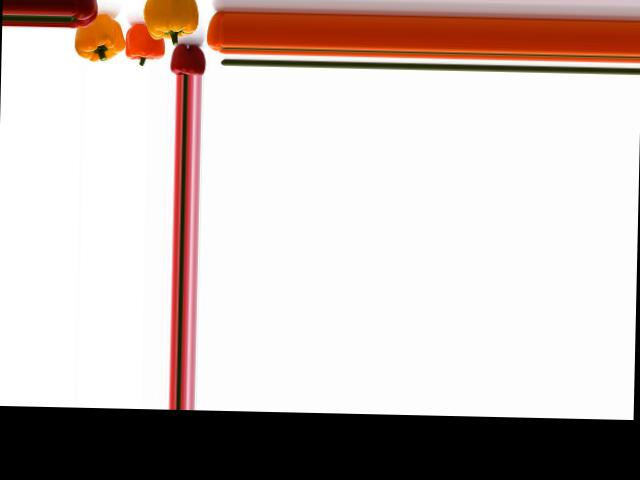bell_pepper: (204, 10, 226, 55)
